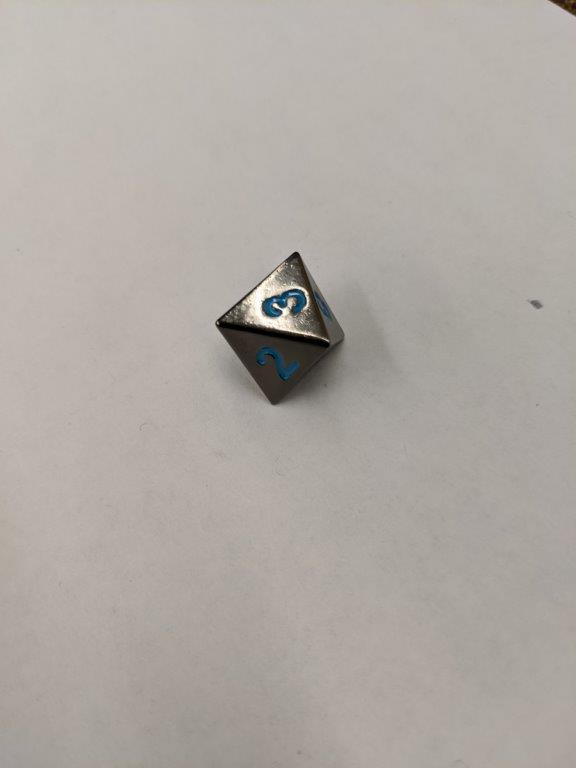d8-3: (215, 251, 346, 405)
